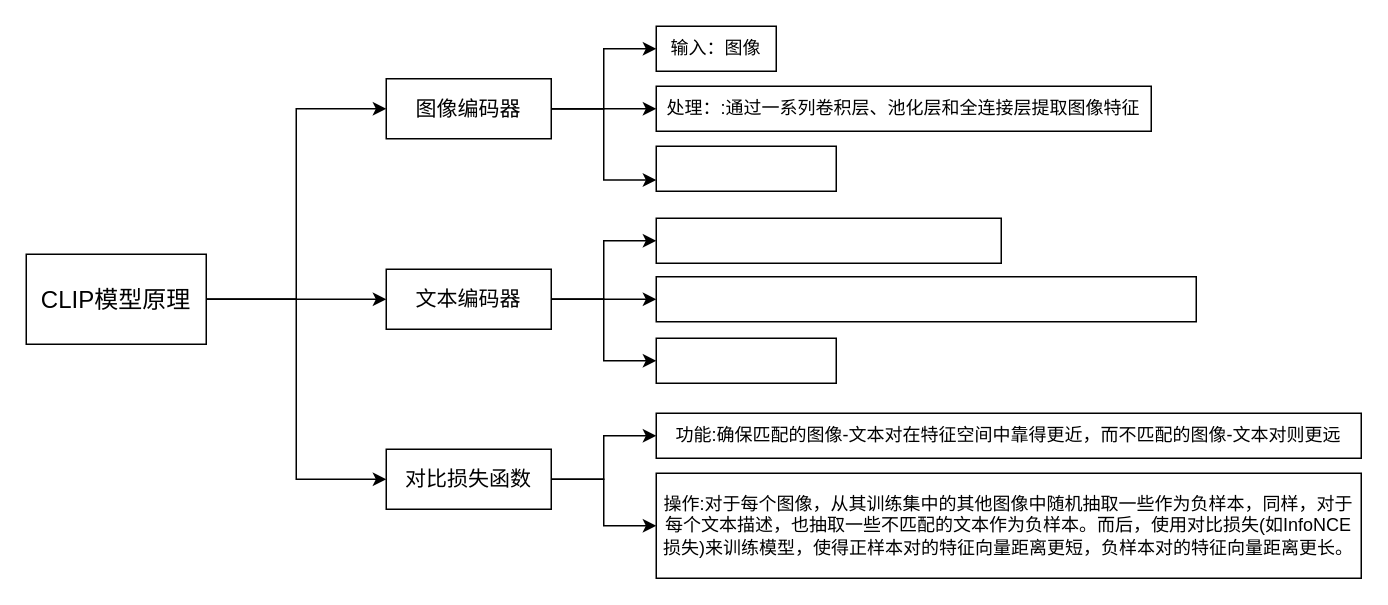
Image size: 1388x605. Some labels were removed from this diagram. Each missing label, with the box of its shape:
处理:通过Transformer的多头自注意力机制和前馈神经网络处理文本: (655, 275, 1196, 322)
输入:文本描述(通常是图像的标题或描述): (655, 217, 1001, 263)
输出:图像的特征向量: (655, 145, 836, 191)
输出:文本的特征向量: (655, 337, 836, 383)
